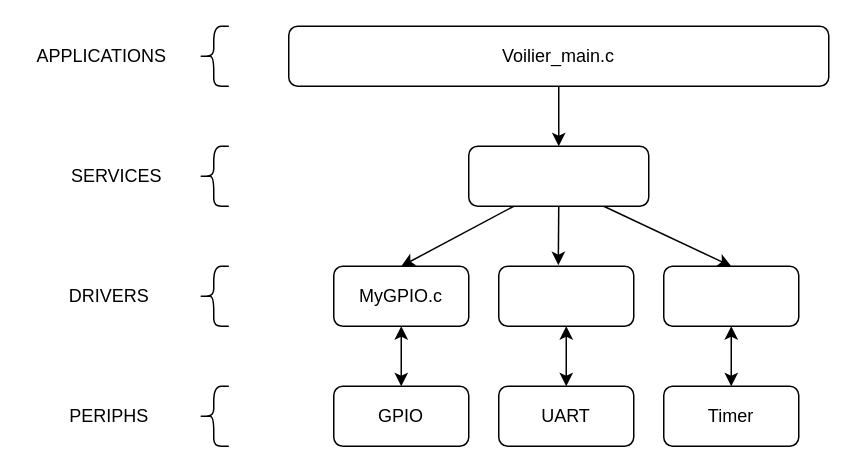
The diagram is 855 pixels wide and 473 high, and some of its shapes have lost their labels. The centre of each missing label's shape, as x and y in pixels:
Gestion_Plateau.c: the point at 558,175
MyTimer.c: the point at 730,295
MyUART.c: the point at 565,295
